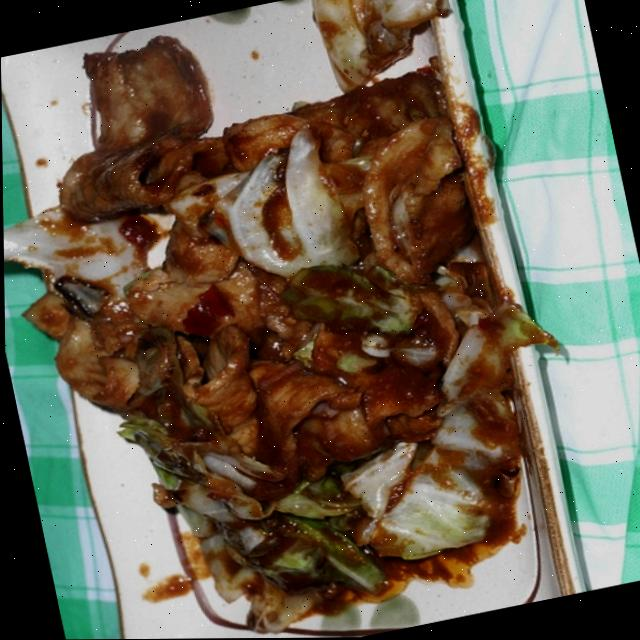猪肉菜式: (0, 0, 620, 640)
